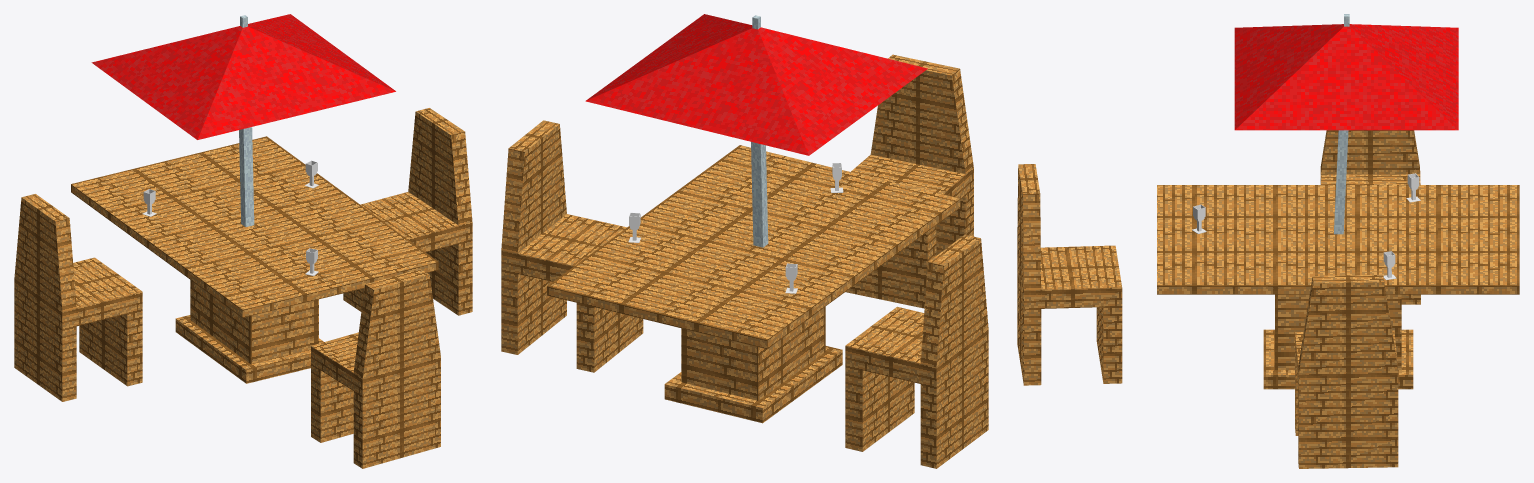
The model's file is BGN_CITY TABLE.fbx.
3 views of the same model, side by side, from view 1: azimuth 30°, elevation 25°; view 2: azimuth 150°, elevation 25°; view 3: azimuth 270°, elevation 25° (orthographic). The views are drawn at different scales.
Visible parts, largest first — view 1: BGN_CITY_TABLE; view 2: BGN_CITY_TABLE; view 3: BGN_CITY_TABLE.
Boxes of the visible parts, bbox=[...] form: BGN_CITY_TABLE: bbox=[14, 14, 472, 468]; BGN_CITY_TABLE: bbox=[501, 14, 988, 468]; BGN_CITY_TABLE: bbox=[1017, 14, 1519, 468].
Bounding box in the file's own units: 362 × 285 × 372.
Materials: 5 (4 with a texture image).
